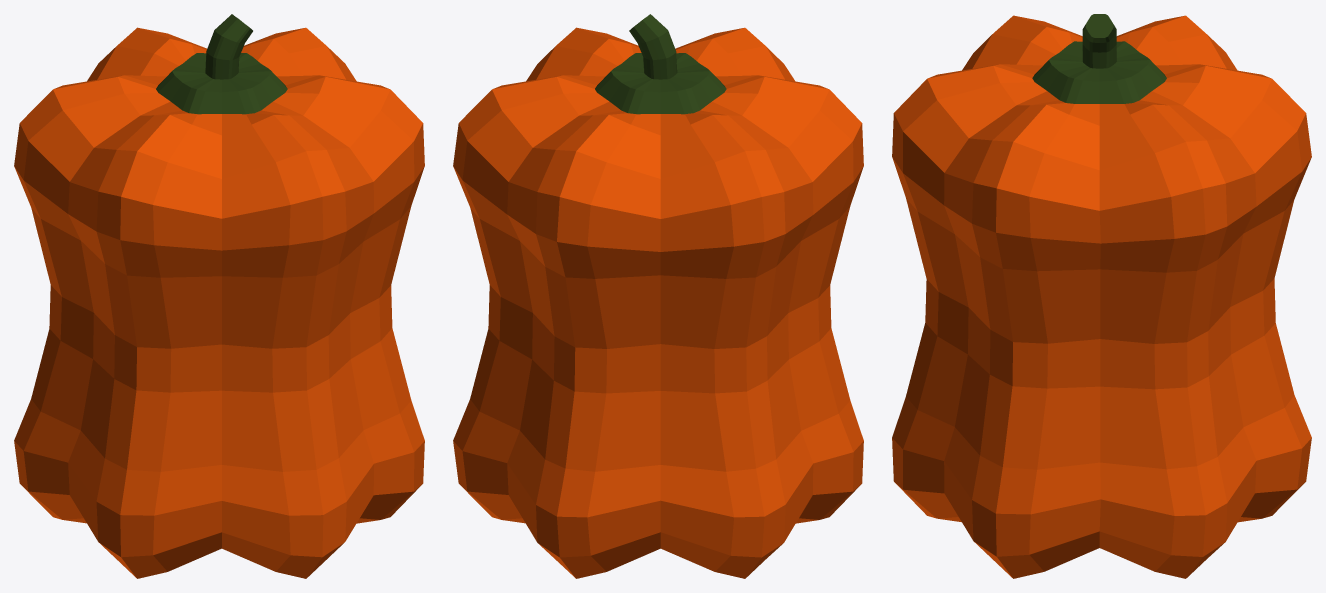
The model's file is bell_pepper_red.fbx.
The picture shows the model from 3 angles, left to right: view 1: azimuth 30°, elevation 25°; view 2: azimuth 150°, elevation 25°; view 3: azimuth 270°, elevation 25°; orthographic projection. The views are drawn at different scales.
Parts seen in each view (by area): view 1: bell_pepper_red; view 2: bell_pepper_red; view 3: bell_pepper_red.
Boxes of the visible parts, left/top/right/bottom form: bell_pepper_red: left=14, top=14, right=424, bottom=578; bell_pepper_red: left=453, top=14, right=863, bottom=578; bell_pepper_red: left=892, top=14, right=1311, bottom=578.
Size of the model in its own units: 82.57 by 124 by 91.04.
